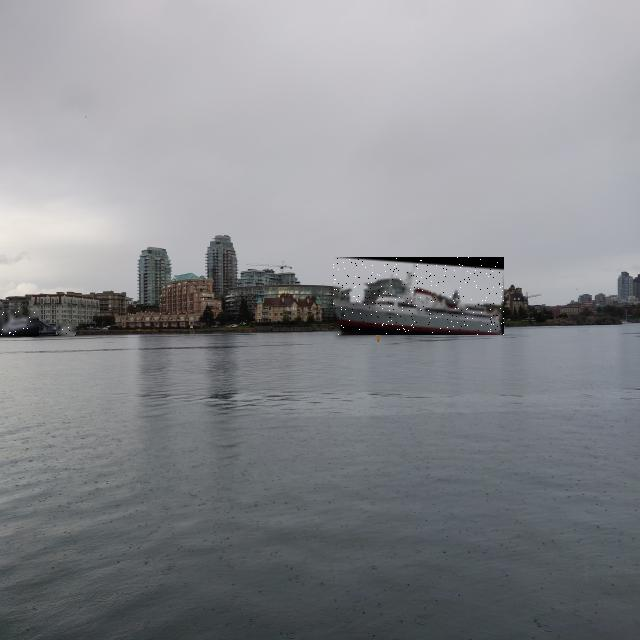boat: (333, 257, 504, 335), (0, 310, 39, 336), (58, 323, 76, 336)
mark: (376, 334, 380, 342), (210, 331, 212, 334)
